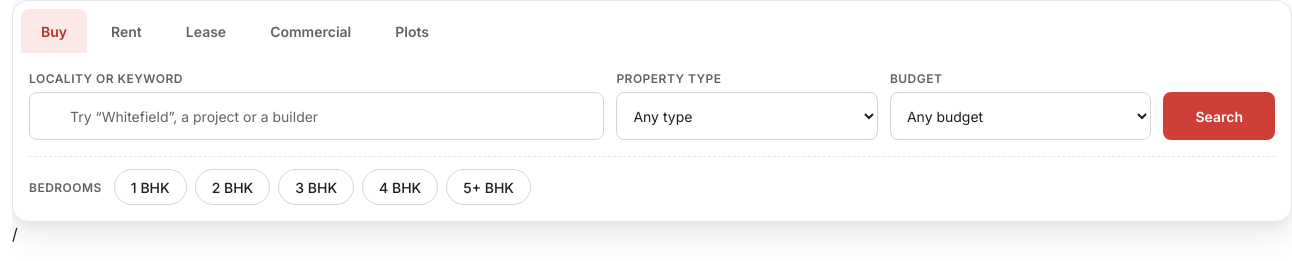
HeroSearch › sends the commercial tab to /lease when the toggle says lease
The width and height of the screenshot is (1292, 261).
Click the tab "Commercial". click: [311, 31]
box: [250, 9, 371, 53]
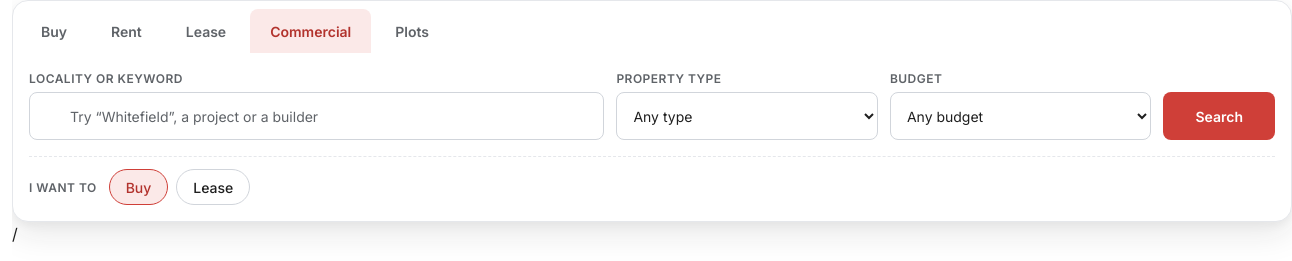
Click the button "Lease". click: [213, 187]
box: [176, 169, 250, 205]
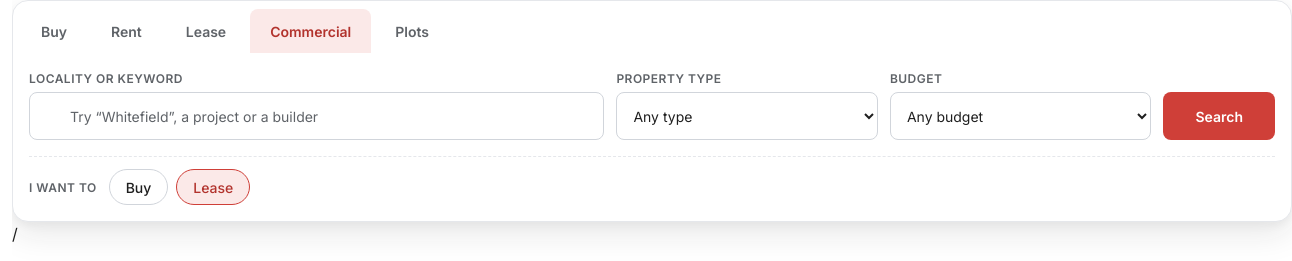
Select "Office Spaces" in the dropdown labelled "Property type". click: [747, 116]
box: [616, 92, 878, 140]
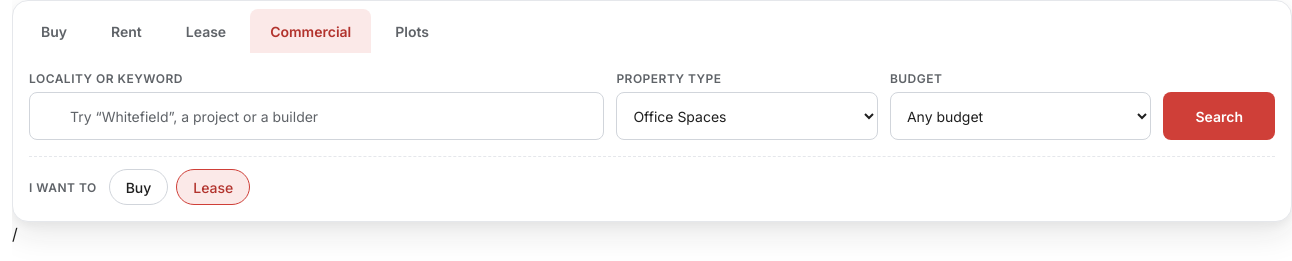
Click the button "Search". click: [1219, 116]
box: [1164, 92, 1275, 140]
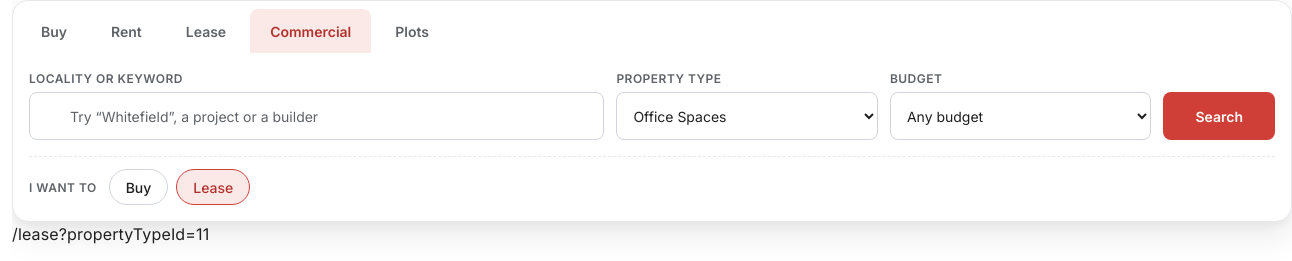
Expected: the text with test id "address" reads "/lease?propertyTypeId=11", [12, 224, 209, 244]
